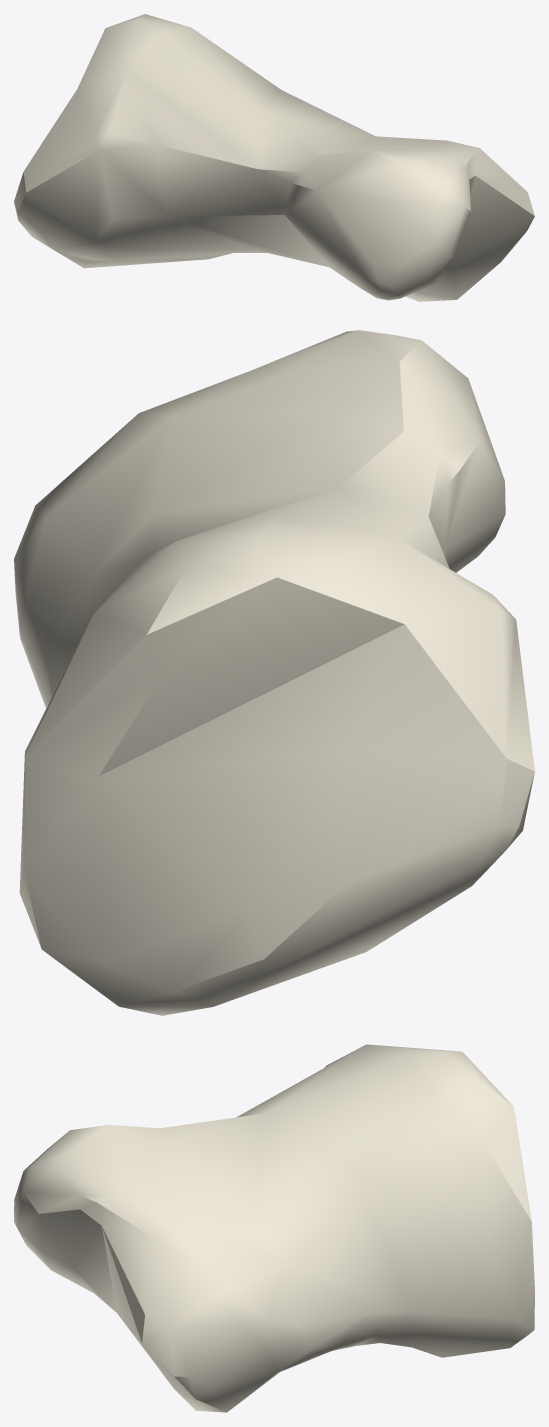
The model's file is fma32647_fj3295.glb.
3 renders of one model, top to bottom at view 1: azimuth 30°, elevation 25°; view 2: azimuth 150°, elevation 25°; view 3: azimuth 270°, elevation 25°, orthographic. The views are drawn at different scales.
Parts seen in each view (by area): view 1: FMA32647_FJ3295; view 2: FMA32647_FJ3295; view 3: FMA32647_FJ3295.
Part boxes in pixels (<box>): FMA32647_FJ3295: <box>14,14,534,301</box>; FMA32647_FJ3295: <box>14,330,534,1015</box>; FMA32647_FJ3295: <box>14,1044,534,1412</box>.
Size of the model in its own units: 0.0123 by 0.00782 by 0.0133.
